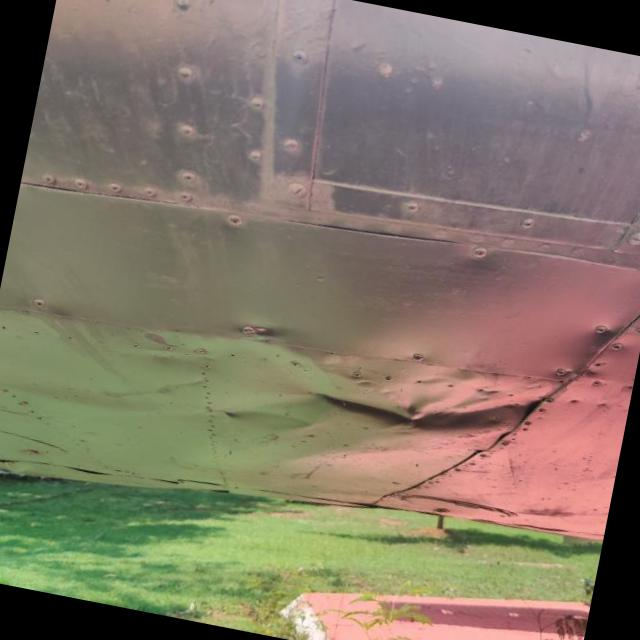Dent: (294, 354, 559, 474)
